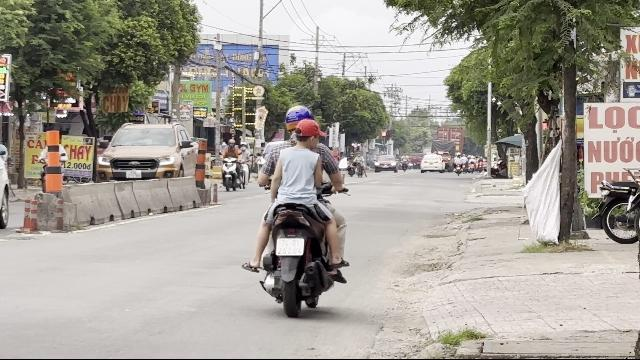helmet: (282, 105, 314, 129)
licenseplate: (276, 238, 304, 256)
motorcyclist: (246, 103, 350, 316)
nohelmet: (294, 118, 322, 148)
